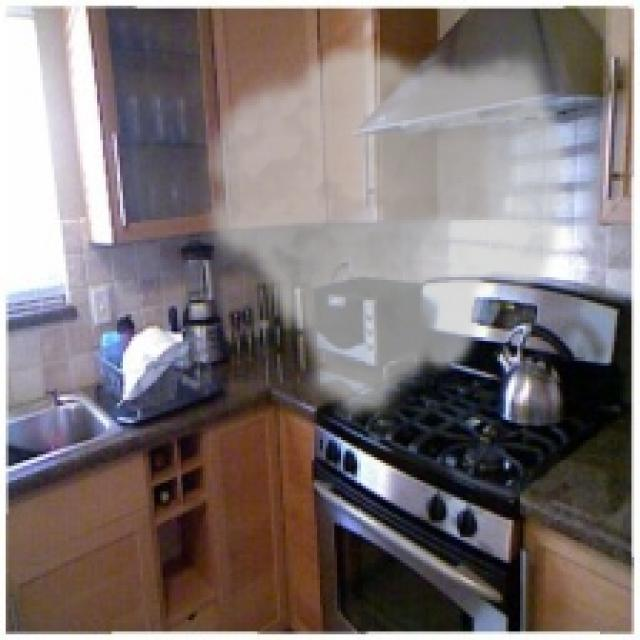smoke: (195, 40, 574, 429)
